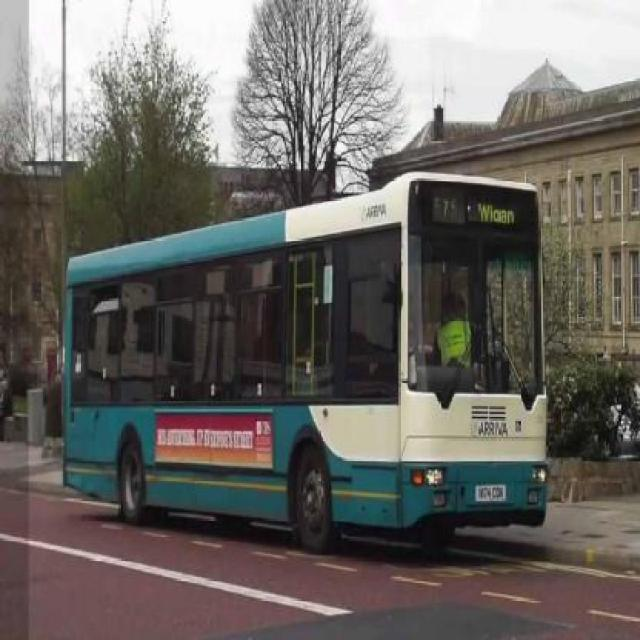bus: (65, 170, 544, 548)
